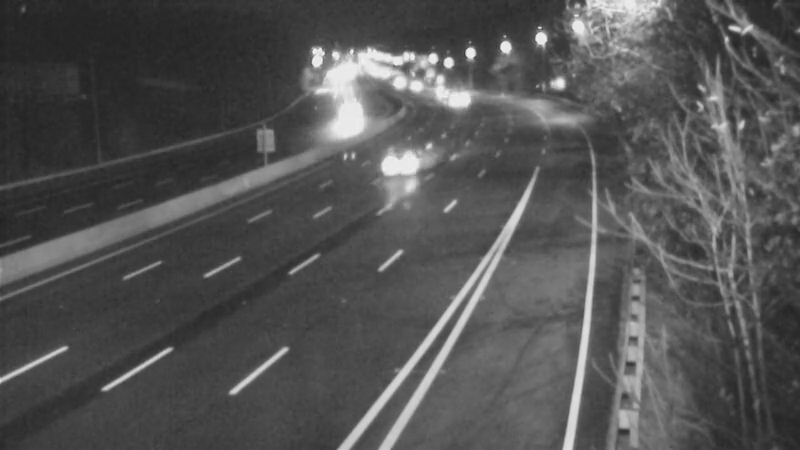vehicle: (361, 124, 441, 204), (372, 58, 422, 108), (387, 63, 437, 113), (414, 66, 464, 116), (431, 72, 481, 122), (322, 95, 372, 145)
